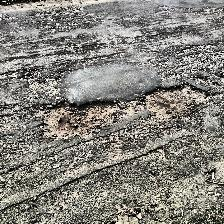pothole: (38, 98, 128, 140), (138, 82, 212, 119)
